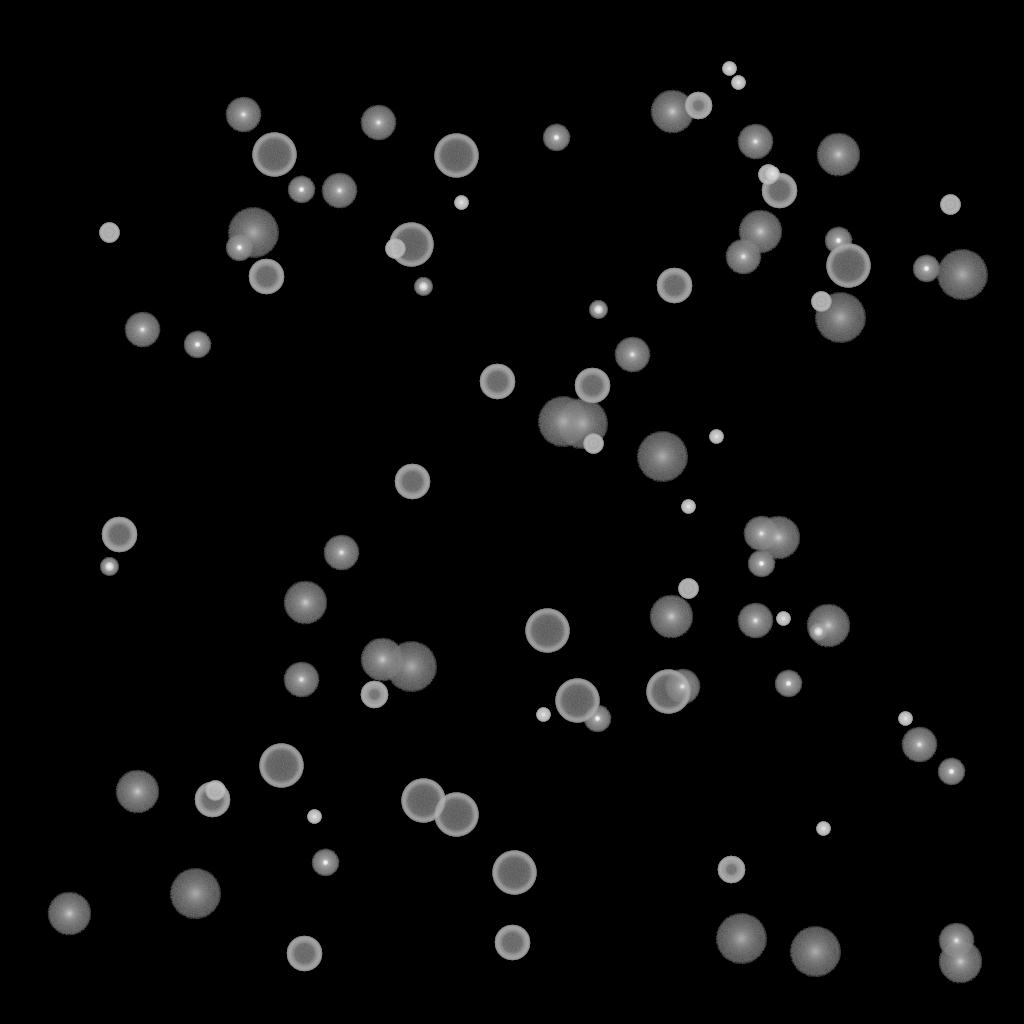depth:-10: (542, 124, 570, 152), (225, 234, 253, 262), (912, 255, 940, 283), (583, 705, 611, 733), (937, 758, 965, 786), (774, 670, 802, 698), (747, 550, 775, 578), (183, 331, 211, 359), (287, 176, 315, 204), (824, 227, 852, 255), (311, 849, 339, 877)
depth:-20: (589, 301, 607, 319), (414, 278, 432, 296), (100, 558, 118, 576), (809, 623, 827, 641)
depth:-30: (454, 196, 468, 210), (898, 712, 912, 726), (765, 167, 779, 181), (776, 612, 790, 626), (536, 708, 550, 722), (709, 430, 723, 444), (731, 76, 745, 90), (681, 500, 695, 514), (816, 822, 830, 836), (307, 810, 321, 824), (722, 62, 736, 76)
depth:-40: (811, 292, 831, 312), (583, 434, 603, 454), (758, 165, 778, 185), (205, 781, 225, 801), (940, 195, 960, 215), (99, 223, 119, 243), (678, 579, 698, 599), (385, 239, 405, 259)
depth:-50: (717, 856, 745, 884), (360, 681, 388, 709), (684, 92, 712, 120)
depth:-60: (656, 268, 692, 304), (194, 782, 230, 818), (394, 464, 430, 500), (101, 517, 137, 553), (479, 364, 515, 400), (761, 173, 797, 209), (574, 368, 610, 404), (248, 259, 284, 295), (494, 925, 530, 961), (286, 936, 322, 972)
depth:-70: (525, 609, 569, 653), (646, 670, 690, 714), (389, 223, 433, 267), (252, 133, 296, 177), (826, 244, 870, 288), (259, 744, 303, 788), (401, 779, 445, 823), (492, 851, 536, 895), (434, 793, 478, 837), (434, 134, 478, 178), (555, 679, 599, 723)
depth:0: (323, 535, 359, 571), (725, 239, 761, 275), (614, 337, 650, 373), (321, 173, 357, 209), (360, 105, 396, 141), (225, 97, 261, 133), (737, 603, 773, 639), (283, 662, 319, 698), (938, 923, 974, 959), (737, 124, 773, 160), (743, 516, 779, 552), (124, 312, 160, 348), (901, 727, 937, 763), (664, 669, 700, 705)
depth:10: (738, 210, 782, 254), (650, 90, 694, 134), (360, 638, 404, 682), (816, 133, 860, 177), (47, 892, 91, 936), (756, 516, 800, 560), (649, 595, 693, 639), (938, 940, 982, 984), (806, 604, 850, 648), (115, 770, 159, 814), (283, 581, 327, 625)
depth:20: (169, 869, 221, 919), (789, 927, 841, 977), (814, 293, 866, 343), (715, 914, 767, 964), (556, 399, 608, 449), (636, 432, 688, 482), (385, 642, 437, 692), (936, 250, 988, 300), (537, 397, 589, 447), (227, 208, 279, 258)
